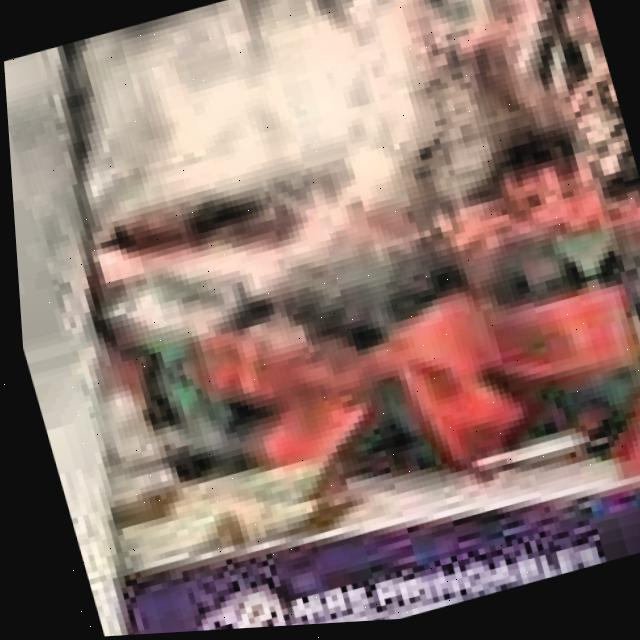paper: (51, 0, 640, 637)
